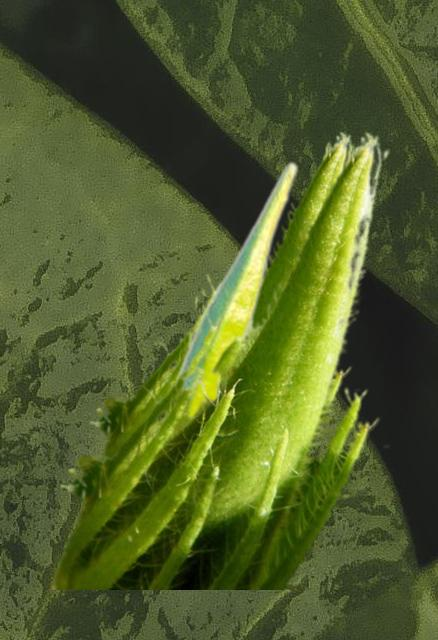okra: (45, 130, 389, 588), (77, 130, 359, 506), (172, 160, 298, 413)
